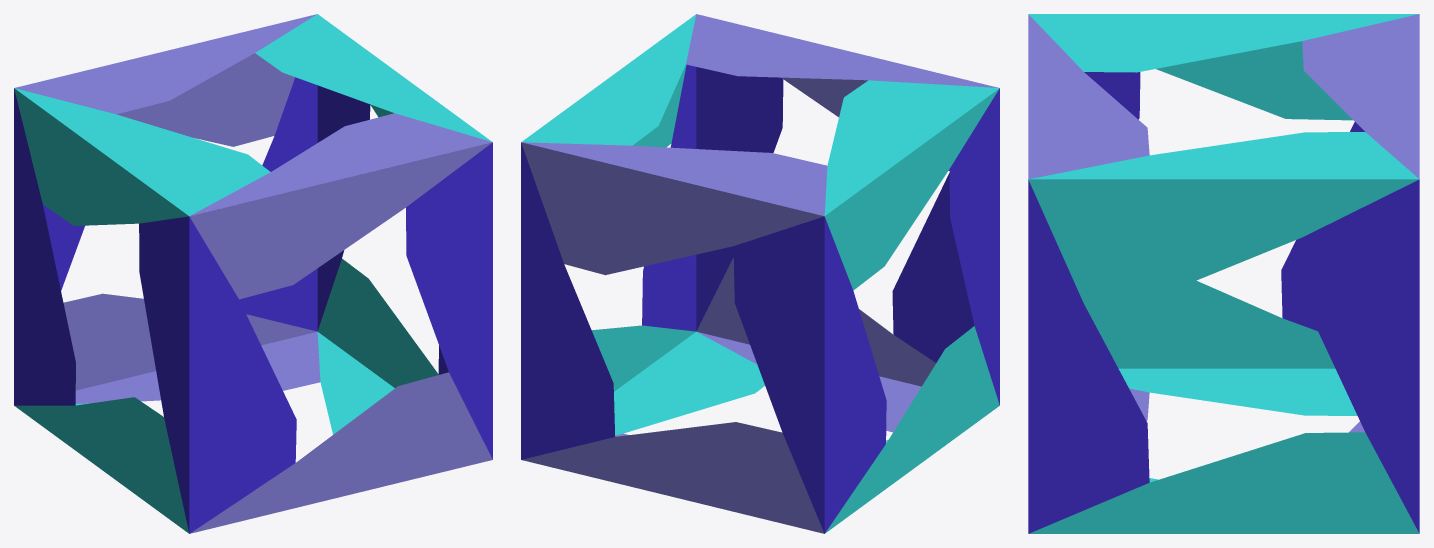
File: starbox.glb
The picture shows the model from 3 angles, left to right: view 1: azimuth 30°, elevation 25°; view 2: azimuth 150°, elevation 25°; view 3: azimuth 270°, elevation 25°; orthographic projection. The views are drawn at different scales.
Parts seen in each view (by area): view 1: pillar3, pillar1, pillar2; view 2: pillar1, pillar3, pillar2; view 3: pillar2, pillar1, pillar3.
Boxes of the visible parts, box(x1,y1,x2,y2) form: pillar3: box(15, 14, 492, 533); pillar1: box(14, 77, 492, 533); pillar2: box(14, 14, 491, 533); pillar1: box(521, 64, 999, 533); pillar3: box(521, 14, 998, 533); pillar2: box(521, 14, 999, 533); pillar2: box(1028, 14, 1419, 533); pillar1: box(1028, 72, 1419, 533); pillar3: box(1028, 14, 1419, 432).
Size of the model in its own units: 2 by 2 by 2.
